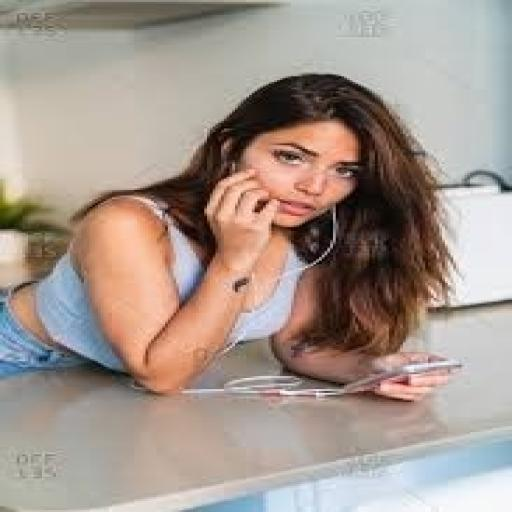texting: (0, 70, 464, 402)
